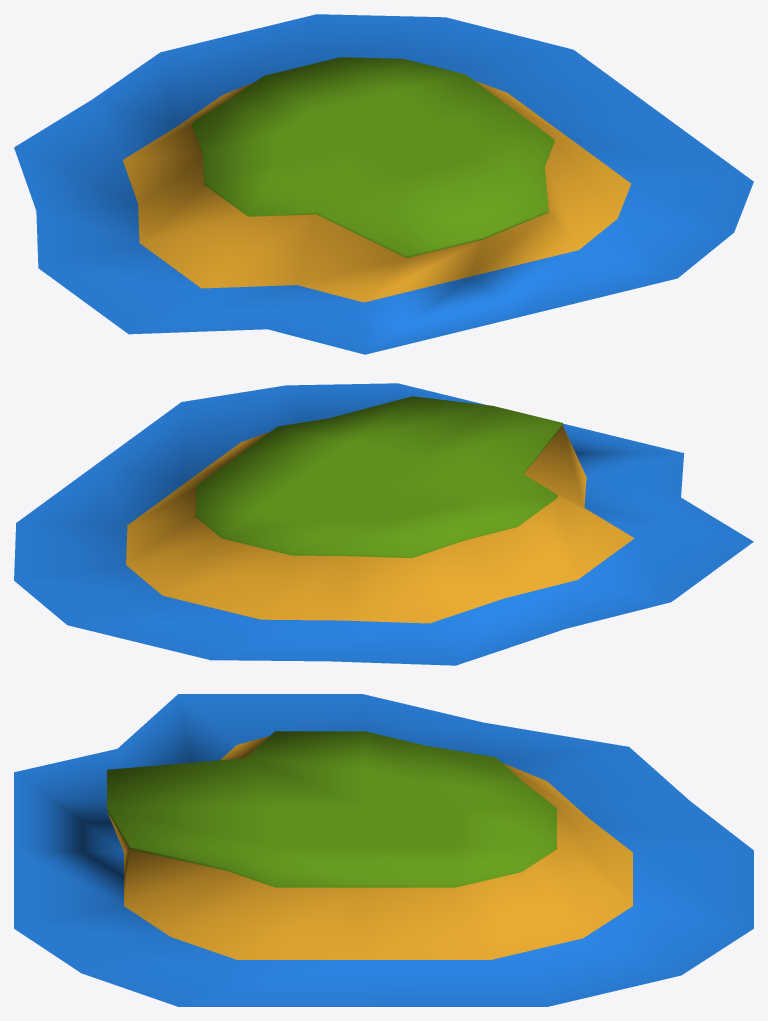
The model's file is island.fbx.
3 views of the same model, one above another, from view 1: azimuth 30°, elevation 25°; view 2: azimuth 150°, elevation 25°; view 3: azimuth 270°, elevation 25° (orthographic). The views are drawn at different scales.
Visible parts, largest first — view 1: Island; view 2: Island; view 3: Island.
Part boxes in pixels (bbox=[...]): Island: bbox=[14, 14, 753, 354]; Island: bbox=[14, 383, 753, 665]; Island: bbox=[14, 694, 753, 1006].
Size of the model in its own units: 291 by 19.99 by 291.
